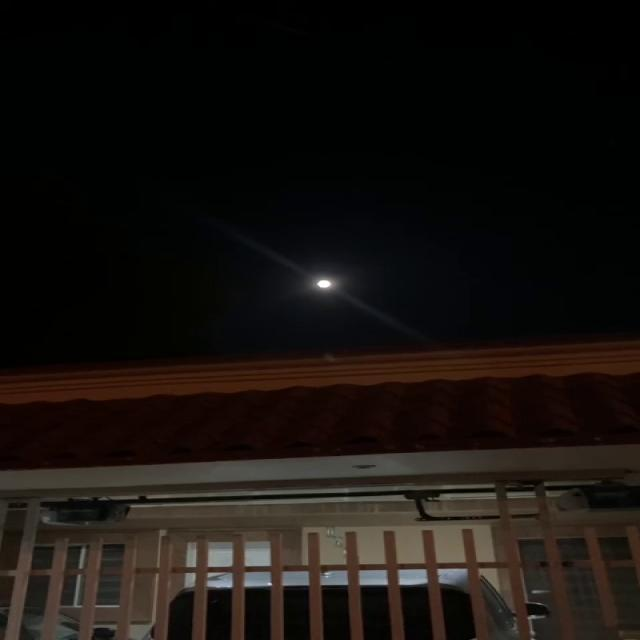moon: (314, 274, 334, 288)
